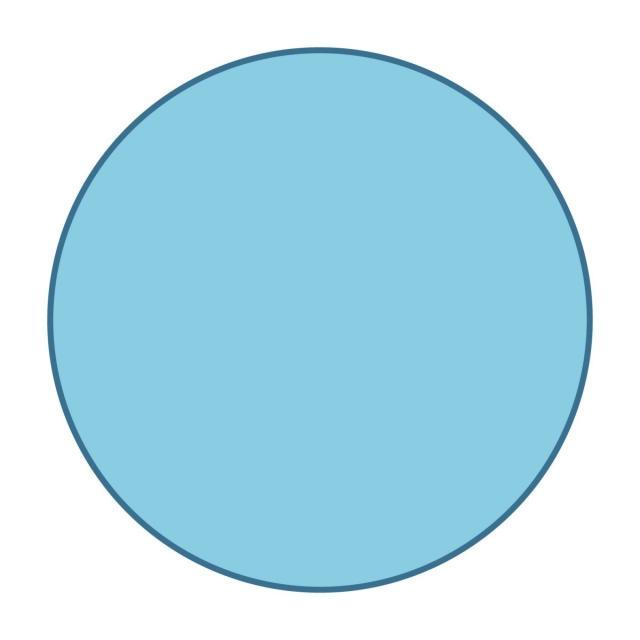Circle: (42, 47, 592, 597)
